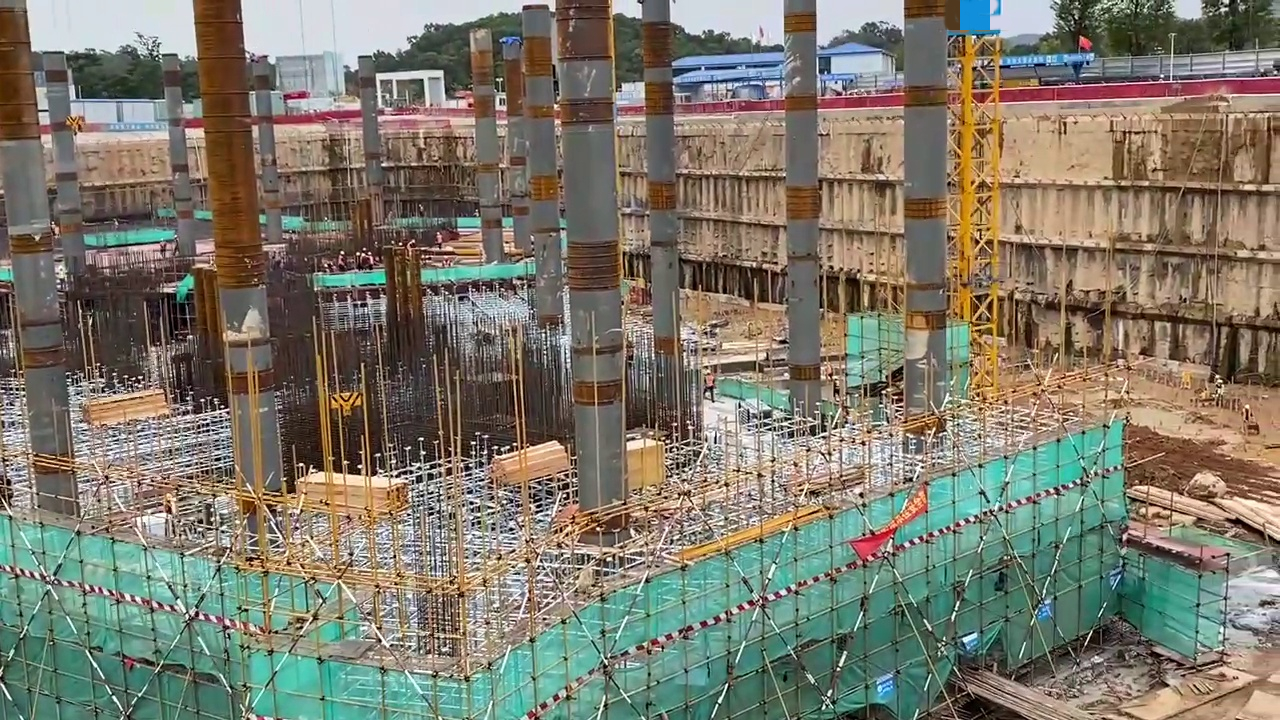hook: (330, 393, 363, 417)
wood: (302, 470, 411, 510), (491, 441, 575, 488), (84, 392, 175, 423)
